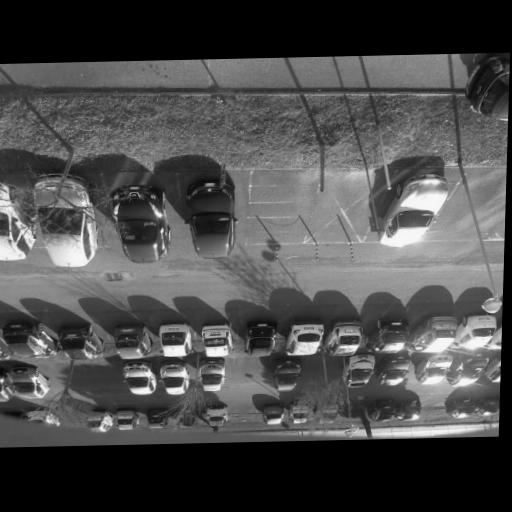busy: (101, 186, 172, 266), (376, 172, 451, 247), (28, 198, 103, 268), (179, 181, 237, 261), (467, 54, 510, 123), (0, 321, 57, 358), (413, 314, 463, 352), (0, 198, 30, 259), (53, 324, 103, 360), (106, 323, 154, 359), (284, 319, 329, 357), (369, 318, 414, 354), (4, 366, 54, 398), (457, 312, 499, 350), (239, 320, 282, 356), (117, 362, 159, 398), (327, 320, 367, 357), (153, 322, 195, 356), (157, 360, 194, 395), (270, 357, 308, 391), (340, 354, 380, 386), (414, 353, 454, 385), (375, 355, 416, 385), (193, 358, 230, 390), (197, 324, 233, 356), (447, 357, 487, 385), (363, 396, 402, 421), (27, 407, 60, 433), (447, 396, 482, 420), (316, 398, 339, 427), (288, 400, 311, 428), (111, 407, 139, 429), (201, 405, 228, 427), (259, 403, 287, 424), (394, 399, 421, 420), (175, 408, 202, 427), (144, 410, 170, 428), (476, 395, 499, 415), (484, 354, 500, 381), (0, 369, 11, 400), (0, 321, 6, 360)
free: (443, 170, 505, 240), (51, 362, 89, 396), (94, 361, 130, 395), (333, 396, 371, 423), (417, 395, 452, 422), (233, 360, 268, 383), (54, 408, 87, 430), (301, 359, 325, 381), (231, 403, 257, 418)
